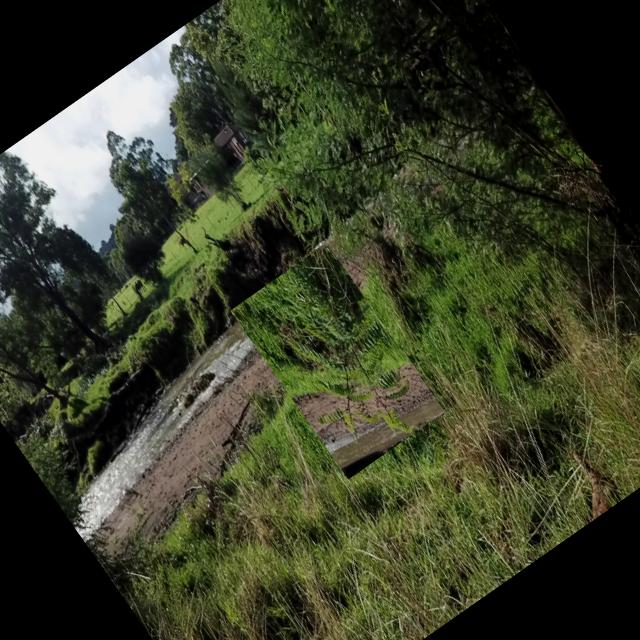Mysore-Thorn-Weed: (230, 242, 445, 479)
